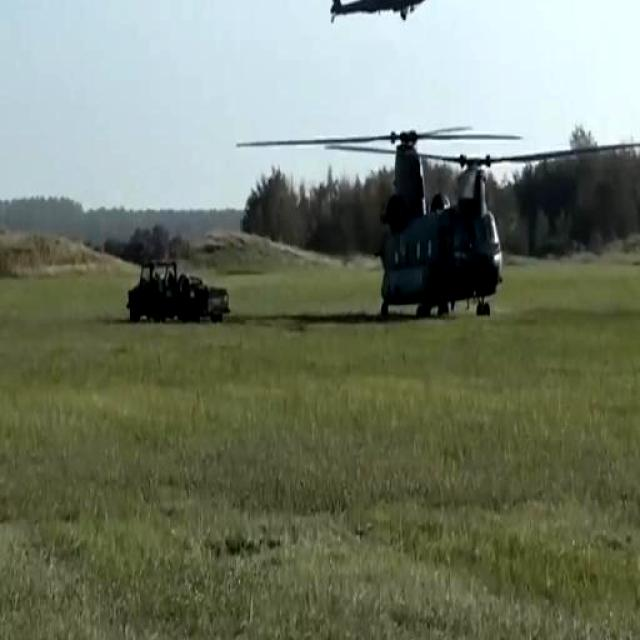drone: (338, 99, 531, 336), (318, 0, 444, 38)
